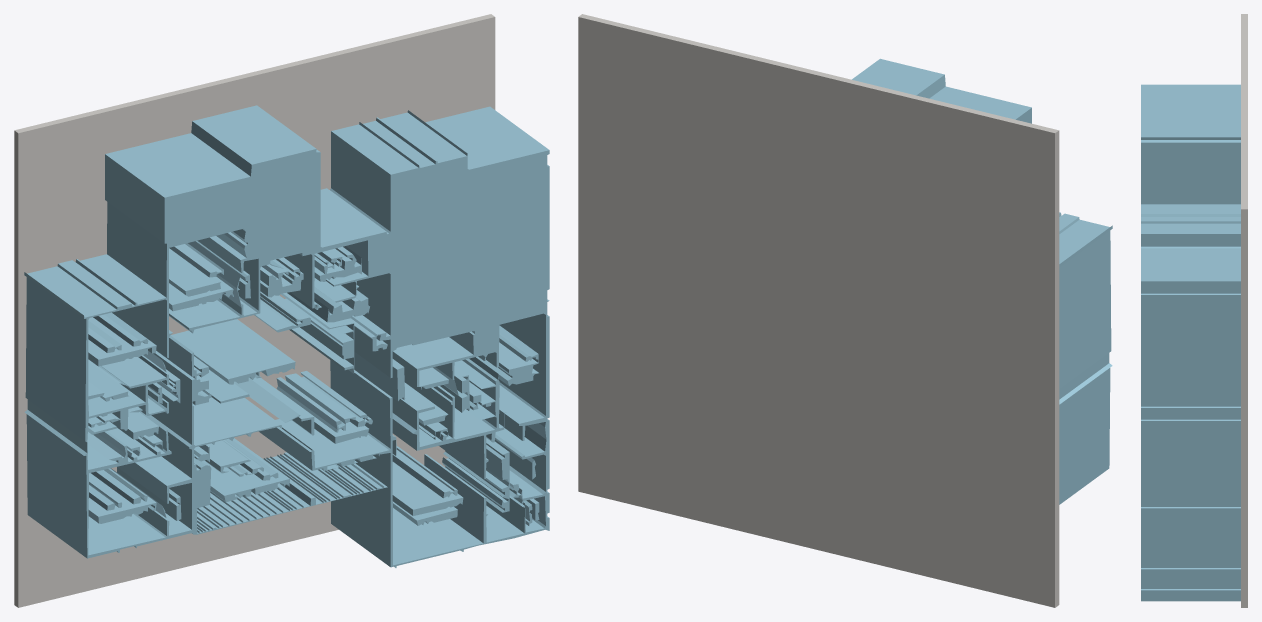
3 views of the same model, side by side, from view 1: azimuth 30°, elevation 25°; view 2: azimuth 150°, elevation 25°; view 3: azimuth 270°, elevation 25° (orthographic). The views are drawn at different scales.
Visible parts, largest first — view 1: world; view 2: world; view 3: world.
Part boxes in pixels (bbox=[...]): world: bbox=[14, 14, 549, 607]; world: bbox=[578, 14, 1112, 607]; world: bbox=[1141, 14, 1247, 607].
Size of the model in its own units: 10.23 by 9.73 by 2.36.
